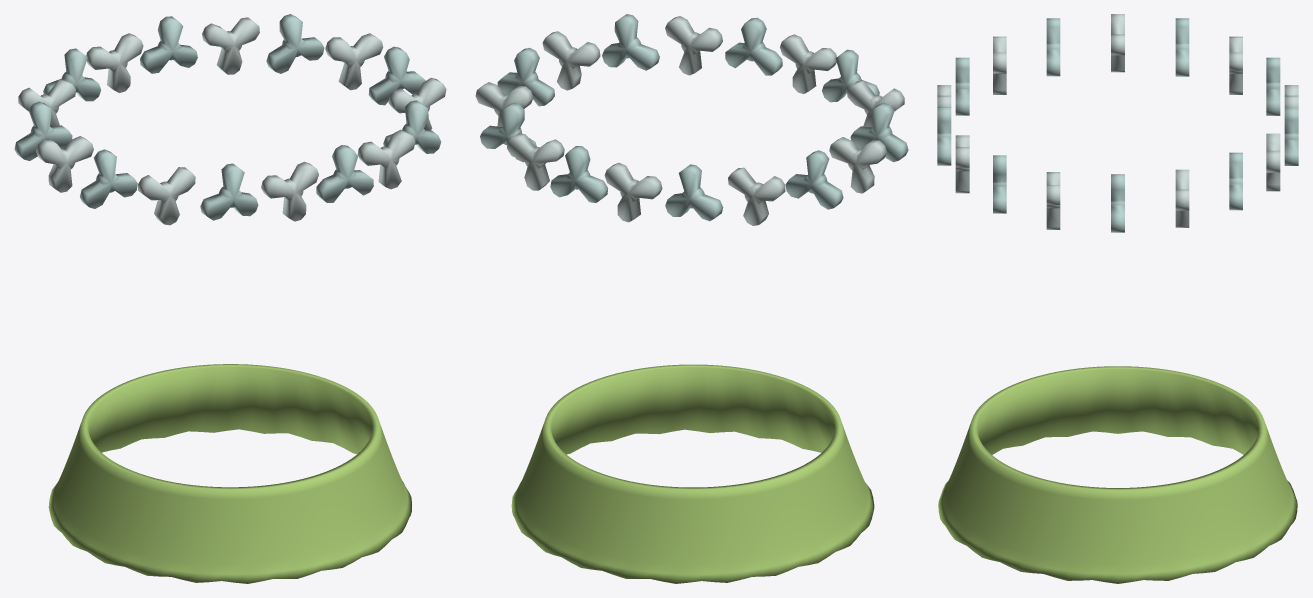
The model's file is island_hachiware.glb.
The picture shows the model from 3 angles, left to right: view 1: azimuth 30°, elevation 25°; view 2: azimuth 150°, elevation 25°; view 3: azimuth 270°, elevation 25°; orthographic projection.
Parts seen in each view (by area): view 1: island_hachiware; view 2: island_hachiware; view 3: island_hachiware.
Part boxes in pixels (x1,y1,x2,y2): island_hachiware: (14,14,446,583); island_hachiware: (475,14,908,583); island_hachiware: (937,14,1298,583).
Size of the model in its own units: 0.7484 by 0.7788 by 0.617.
